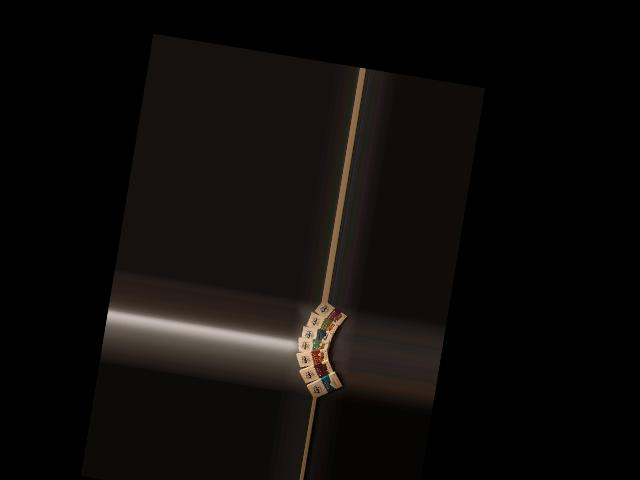chocolate: (304, 367, 346, 401)
